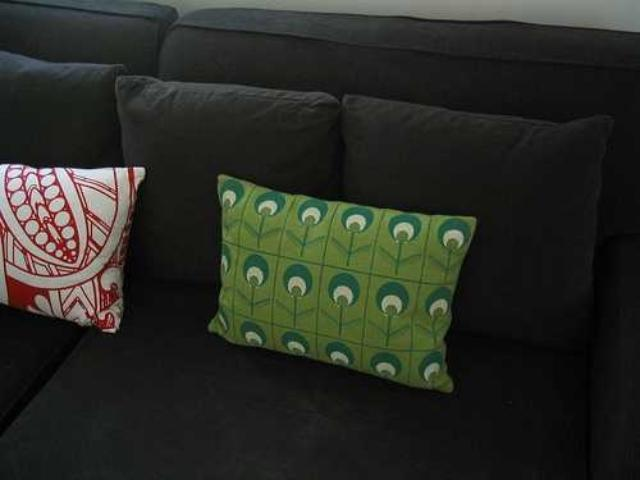pillow: (340, 91, 614, 349), (207, 172, 478, 392), (114, 74, 340, 286), (0, 162, 146, 332)
